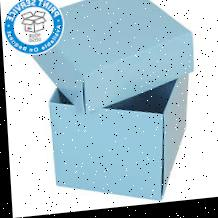cube: (47, 65, 194, 211)
